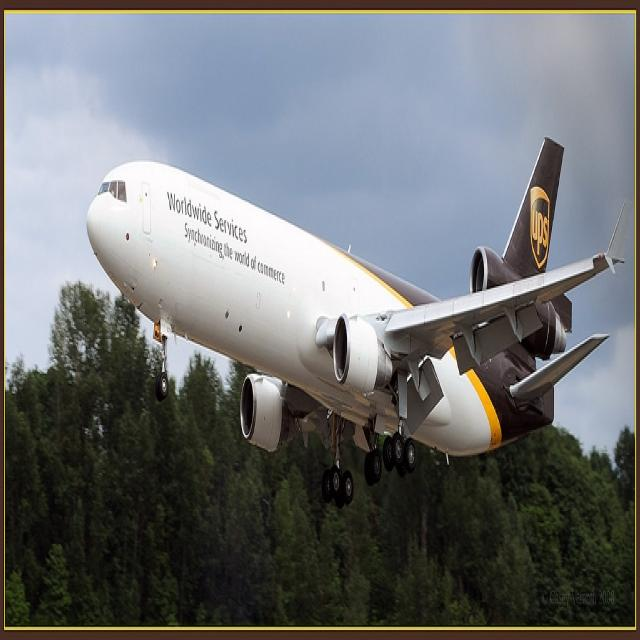ups: (531, 183, 551, 269)
